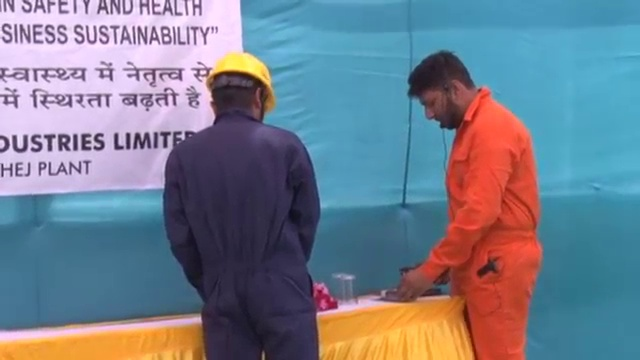helmet: (205, 50, 277, 109)
helmet_off: (407, 49, 475, 133)
helmet_on: (205, 50, 277, 128)
person: (161, 50, 323, 360), (402, 48, 546, 360)
